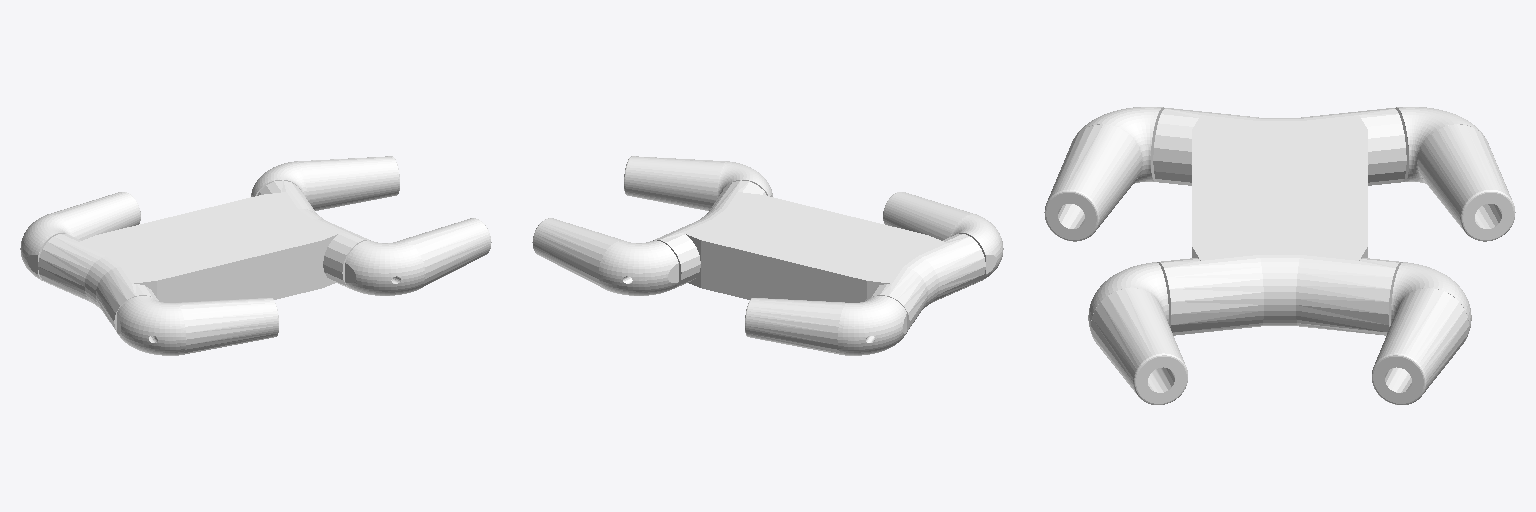
URDF robot description (14_degree):
<?xml version="1.0" encoding="utf-8"?>
<!-- This URDF was automatically created by SolidWorks to URDF Exporter! Originally created by [author] ([email redacted]) 
     Commit Version: 1.5.1-0-g916b5db  Build Version: 1.5.7152.31018
     For more information, please see http://wiki.ros.org/sw_urdf_exporter -->
<robot
  name="14_degree">
  <link
    name="base_link">
    <inertial>
      <origin
        xyz="-2.7756E-17 3.3407E-08 -1.6593E-09"
        rpy="0 0 0" />
      <mass
        value="2.942" />
      <inertia
        ixx="0.0100402"
        ixy="-7.6762E-19"
        ixz="-1.5357E-10"
        iyy="0.0428807"
        iyz="-7.8866E-20"
        izz="0.0505236" />
    </inertial>
    <visual>
      <origin
        xyz="0 0 0"
        rpy="0 0 0" />
      <geometry>
        <mesh
          filename="package://14_degree/meshes/base_link.STL" />
      </geometry>
      <material
        name="">
        <color
          rgba="1 1 1 1" />
      </material>
    </visual>
    <collision>
      <origin
        xyz="0 0 0"
        rpy="0 0 0" />
      <geometry>
        <mesh
          filename="package://14_degree/meshes/base_link.STL" />
      </geometry>
    </collision>
  </link>
  <link
    name="left_front_link">
    <inertial>
      <origin
        xyz="-1.9746E-08 0.05683 -0.036011"
        rpy="0 0 0" />
      <mass
        value="0.092" />
      <inertia
        ixx="0.0002604"
        ixy="7.6864E-10"
        ixz="7.6812E-10"
        iyy="0.0000526"
        iyz="2.27E-05"
        izz="0.0002575" />
    </inertial>
    <visual>
      <origin
        xyz="0 0 0"
        rpy="0 0 0" />
      <geometry>
        <mesh
          filename="package://14_degree/meshes/left_front_link.STL" />
      </geometry>
      <material
        name="">
        <color
          rgba="1 1 1 1" />
      </material>
    </visual>
    <collision>
      <origin
        xyz="0 0 0"
        rpy="0 0 0" />
      <geometry>
        <mesh
          filename="package://14_degree/meshes/left_front_link.STL" />
      </geometry>
    </collision>
  </link>
  <joint
    name="left_front_leg"
    type="continuous">
    <origin
      xyz="0.15492 0.09994 0"
      rpy="1.8151 1.5708 0" />
    <parent
      link="base_link" />
    <child
      link="left_front_link" />
    <axis
      xyz="0 0 -1" />
    <limit
      effort="5"
      velocity="487" />
  </joint>
  <link
    name="right_front_link">
    <inertial>
      <origin
        xyz="1.9746E-08 0.05683 0.036011"
        rpy="0 0 0" />
      <mass
        value="0.092" />
      <inertia
        ixx="0.0002604"
        ixy="-7.6864E-10"
        ixz="7.6812E-10"
        iyy="0.0000526"
        iyz="-2.27E-05"
        izz="0.0002575" />
    </inertial>
    <visual>
      <origin
        xyz="0 0 0"
        rpy="0 0 0" />
      <geometry>
        <mesh
          filename="package://14_degree/meshes/right_front_link.STL" />
      </geometry>
      <material
        name="">
        <color
          rgba="1 1 1 1" />
      </material>
    </visual>
    <collision>
      <origin
        xyz="0 0 0"
        rpy="0 0 0" />
      <geometry>
        <mesh
          filename="package://14_degree/meshes/right_front_link.STL" />
      </geometry>
    </collision>
  </link>
  <joint
    name="right_front_leg"
    type="continuous">
    <origin
      xyz="0.15492 -0.09994 0"
      rpy="1.3265 1.5708 0" />
    <parent
      link="base_link" />
    <child
      link="right_front_link" />
    <axis
      xyz="0 0 1" />
    <limit
      effort="5"
      velocity="487" />
  </joint>
  <link
    name="right_back_link">
    <inertial>
      <origin
        xyz="8.6847E-08 0.056834 0.03601"
        rpy="0 0 0" />
      <mass
        value="0.092" />
      <inertia
        ixx="0.0002604"
        ixy="-5.4997E-10"
        ixz="2.5622E-10"
        iyy="0.0000526"
        iyz="-2.27E-05"
        izz="0.0002575" />
    </inertial>
    <visual>
      <origin
        xyz="0 0 0"
        rpy="0 0 0" />
      <geometry>
        <mesh
          filename="package://14_degree/meshes/right_back_link.STL" />
      </geometry>
      <material
        name="">
        <color
          rgba="1 1 1 1" />
      </material>
    </visual>
    <collision>
      <origin
        xyz="0 0 0"
        rpy="0 0 0" />
      <geometry>
        <mesh
          filename="package://14_degree/meshes/right_back_link.STL" />
      </geometry>
    </collision>
  </link>
  <joint
    name="right_back_leg"
    type="continuous">
    <origin
      xyz="-0.15492 -0.09994 0"
      rpy="1.8151 1.5708 0" />
    <parent
      link="base_link" />
    <child
      link="right_back_link" />
    <axis
      xyz="0 0 1" />
    <limit
      effort="5"
      velocity="487" />
  </joint>
  <link
    name="left_back_link">
    <inertial>
      <origin
        xyz="-8.6847E-08 0.056834 -0.03601"
        rpy="0 0 0" />
      <mass
        value="0.092" />
      <inertia
        ixx="0.0002604"
        ixy="5.4997E-10"
        ixz="2.5622E-10"
        iyy="0.0000526"
        iyz="2.27E-05"
        izz="0.0002575" />
    </inertial>
    <visual>
      <origin
        xyz="0 0 0"
        rpy="0 0 0" />
      <geometry>
        <mesh
          filename="package://14_degree/meshes/left_back_link.STL" />
      </geometry>
      <material
        name="">
        <color
          rgba="1 1 1 1" />
      </material>
    </visual>
    <collision>
      <origin
        xyz="0 0 0"
        rpy="0 0 0" />
      <geometry>
        <mesh
          filename="package://14_degree/meshes/left_back_link.STL" />
      </geometry>
    </collision>
  </link>
  <joint
    name="left_back_leg"
    type="continuous">
    <origin
      xyz="-0.15492 0.09994 0"
      rpy="1.3265 1.5708 0" />
    <parent
      link="base_link" />
    <child
      link="left_back_link" />
    <axis
      xyz="0 0 -1" />
    <limit
      effort="5"
      velocity="487" />
  </joint>
</robot>

--- Render facts (derived) ---
Views: 3 orthographic renders of the robot side by side, from view 1: azimuth 30°, elevation 25°; view 2: azimuth 150°, elevation 25°; view 3: azimuth 270°, elevation 25°.
Robot: 14_degree — 5 links, 4 joints (4 continuous); root link base_link; default pose: all joints at 0.
Visible links, largest first — view 1: base_link, right_back_link, right_front_link, left_front_link, left_back_link; view 2: base_link, left_back_link, left_front_link, right_front_link, right_back_link; view 3: base_link, right_back_link, left_back_link, right_front_link, left_front_link.
Boxes of the visible links, <box> form: base_link: <box>38,180,370,331</box>; right_back_link: <box>117,296,278,355</box>; right_front_link: <box>345,218,491,295</box>; left_front_link: <box>251,156,399,210</box>; left_back_link: <box>20,192,140,281</box>; base_link: <box>653,180,985,331</box>; left_back_link: <box>745,296,906,355</box>; left_front_link: <box>532,218,678,295</box>; right_front_link: <box>624,156,772,210</box>; right_back_link: <box>883,192,1003,281</box>; base_link: <box>1153,108,1406,335</box>; right_back_link: <box>1044,107,1164,241</box>; left_back_link: <box>1395,107,1515,241</box>; right_front_link: <box>1088,262,1187,404</box>; left_front_link: <box>1372,262,1471,404</box>.
Bounding box of the posed robot: 0.5119 × 0.4003 × 0.064 m (x, y, z).
Meshes: 5 distinct files referenced, 5 mesh visuals loaded (5 binary STL).